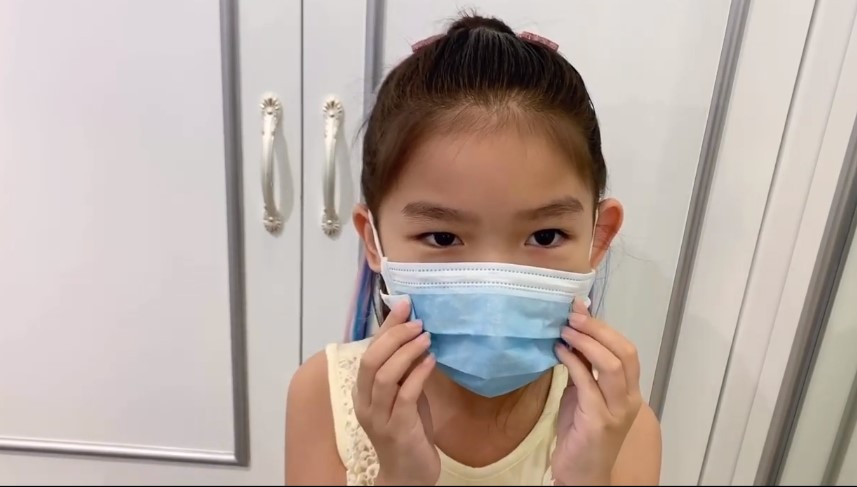face_with_mask: (354, 43, 624, 399)
